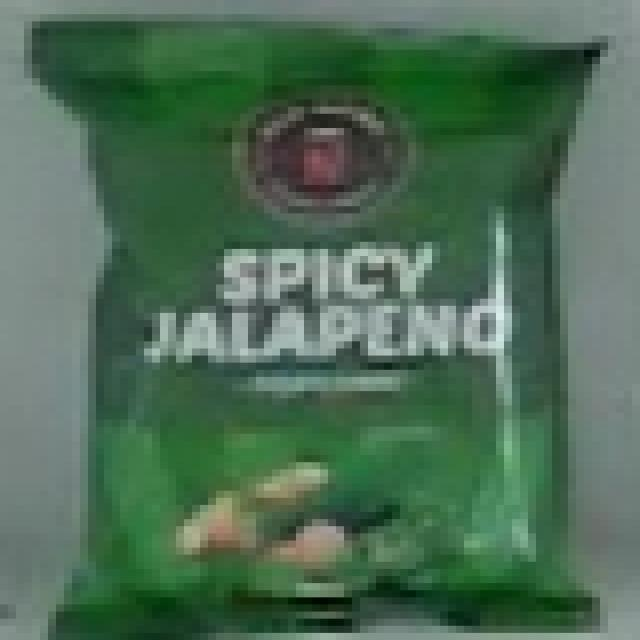Plastic: (28, 22, 606, 624)
